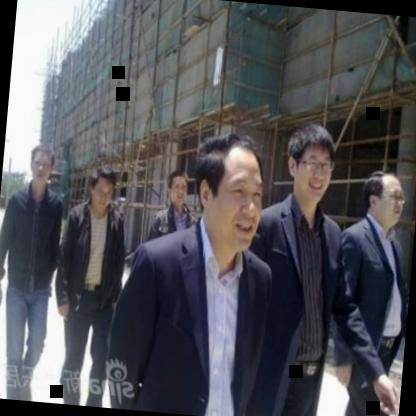head: (197, 134, 270, 251), (282, 119, 344, 207), (362, 166, 410, 228), (26, 140, 58, 194), (86, 165, 119, 217), (162, 166, 190, 214)
